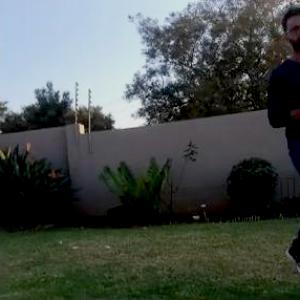follow: (261, 0, 299, 291)
